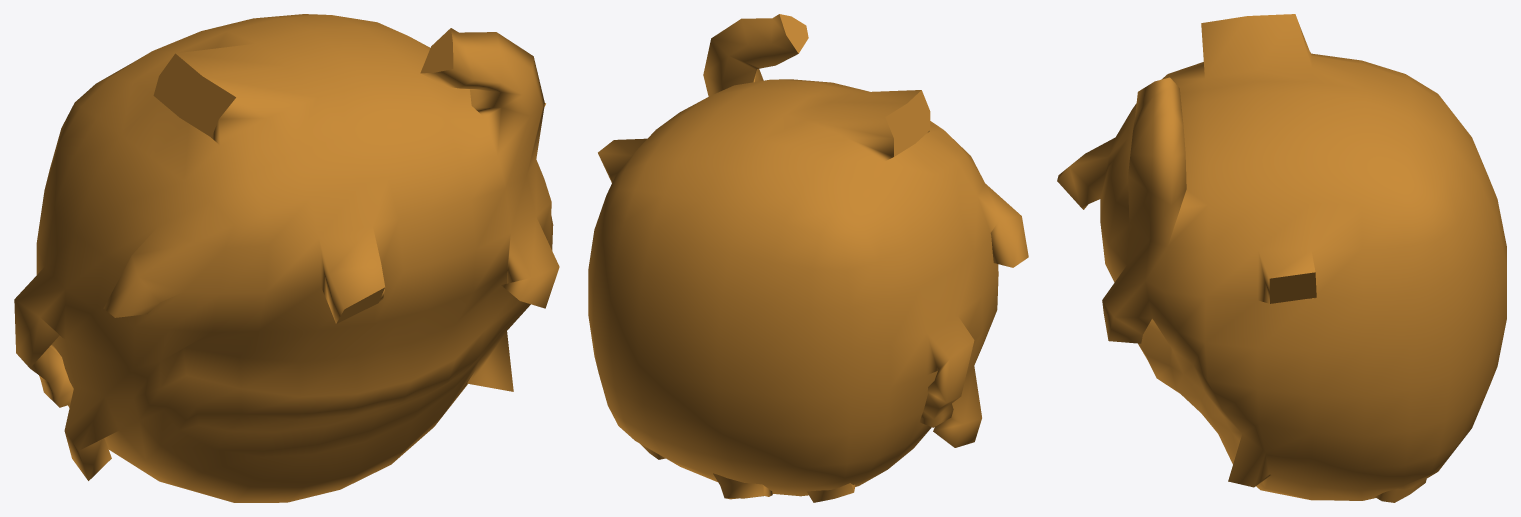
The model's file is Hair_3.fbx.
The picture shows the model from 3 angles, left to right: view 1: azimuth 30°, elevation 25°; view 2: azimuth 150°, elevation 25°; view 3: azimuth 270°, elevation 25°; orthographic projection. The views are drawn at different scales.
Parts seen in each view (by area): view 1: hair_03; view 2: hair_03; view 3: hair_03.
Part boxes in pixels (bbox=[...]): hair_03: bbox=[14, 14, 559, 502]; hair_03: bbox=[588, 14, 1028, 502]; hair_03: bbox=[1057, 14, 1506, 502].
Bounding box in the file's own units: 46.03 × 45.35 × 42.37.
